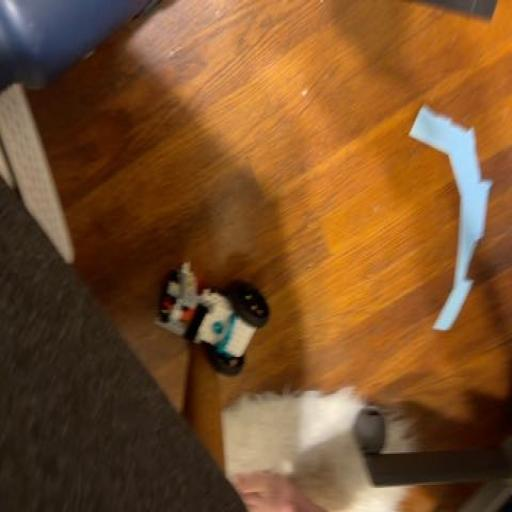Opponent: (152, 262, 274, 382)
